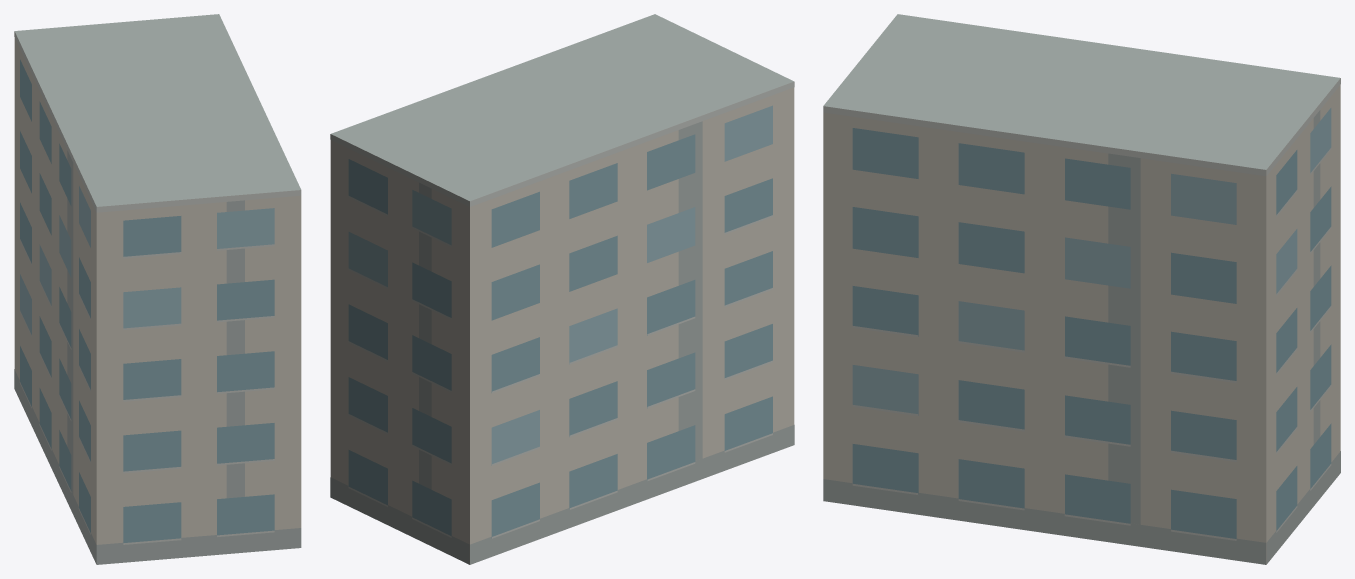
The model's file is residential-44f66697-3762-487f-843c-0aa8d973a0d8.glb.
3 views of the same model, side by side, from view 1: azimuth 30°, elevation 25°; view 2: azimuth 150°, elevation 25°; view 3: azimuth 270°, elevation 25° (orthographic). The views are drawn at different scales.
Parts seen in each view (by area): view 1: residential-44f66697-3762-487f-843c-0aa8d973a0d8.tmp; view 2: residential-44f66697-3762-487f-843c-0aa8d973a0d8.tmp; view 3: residential-44f66697-3762-487f-843c-0aa8d973a0d8.tmp.
Boxes of the visible parts, left/top/right/bottom form: residential-44f66697-3762-487f-843c-0aa8d973a0d8.tmp: left=14, top=14, right=301, bottom=564; residential-44f66697-3762-487f-843c-0aa8d973a0d8.tmp: left=330, top=14, right=794, bottom=564; residential-44f66697-3762-487f-843c-0aa8d973a0d8.tmp: left=823, top=14, right=1340, bottom=564.
Bounding box in the file's own units: 12.92 × 15.25 × 18.12.
